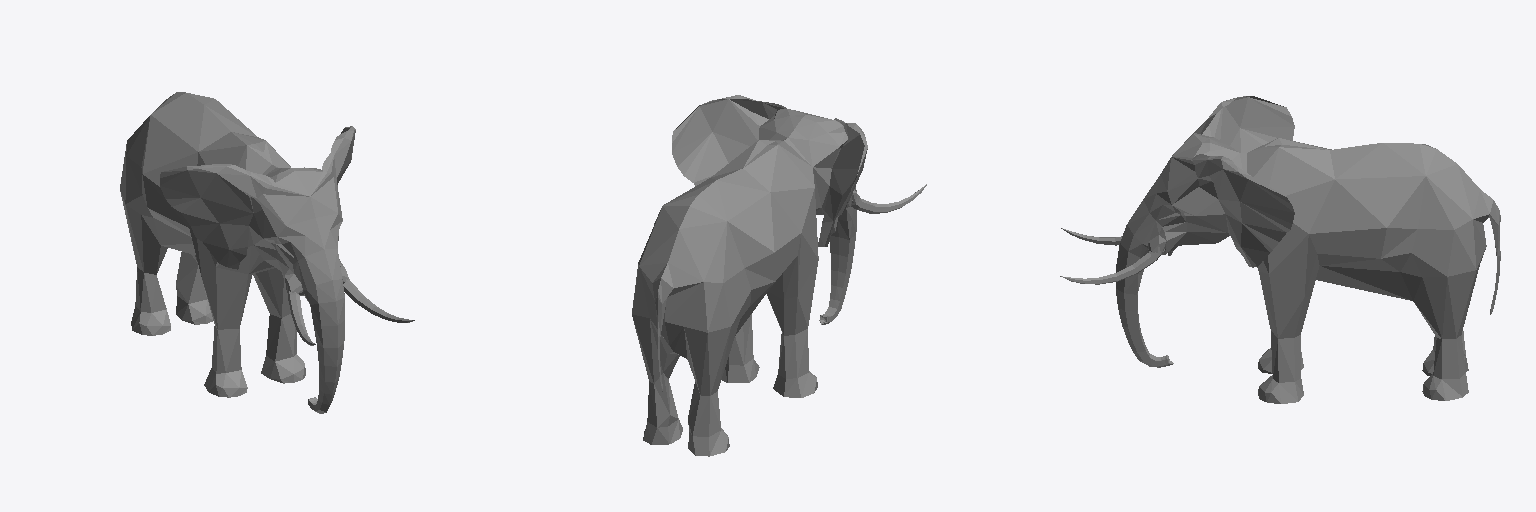
Rendered from elephav.obj.
3 views of the same model, side by side, from view 1: azimuth 30°, elevation 25°; view 2: azimuth 150°, elevation 25°; view 3: azimuth 270°, elevation 25° (orthographic).
Size of the model in its own units: 547 by 712 by 1135.